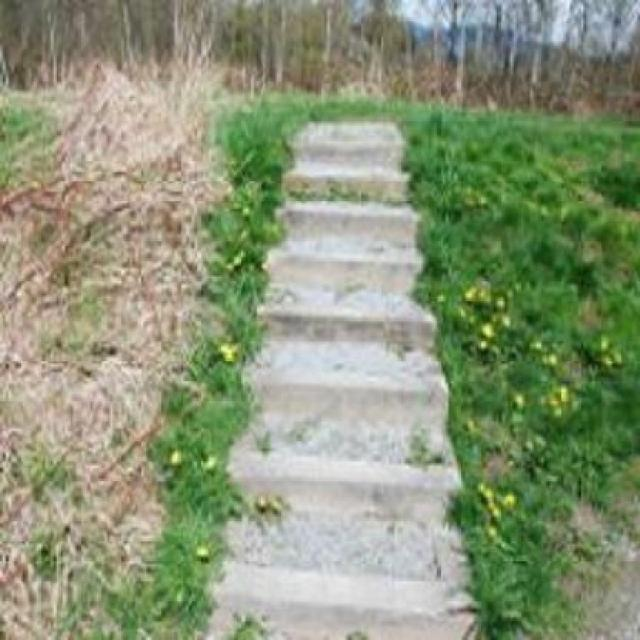stair: (200, 114, 491, 640)
